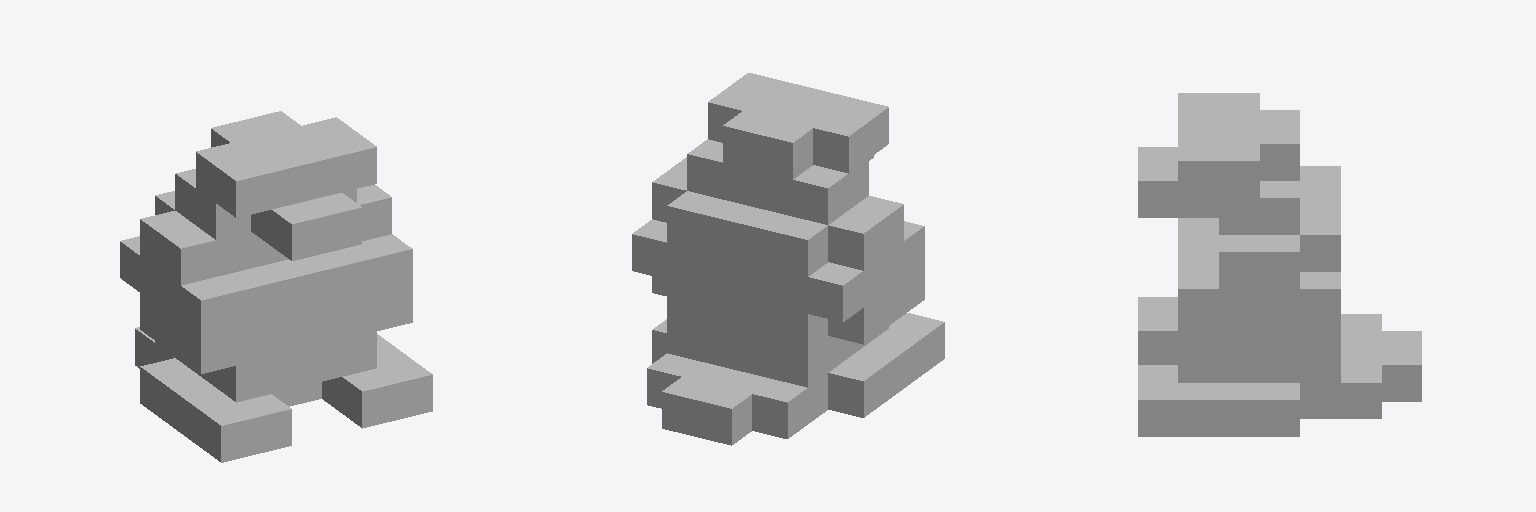
File: MoleStand.obj
3 views of the same model, side by side, from view 1: azimuth 30°, elevation 25°; view 2: azimuth 150°, elevation 25°; view 3: azimuth 270°, elevation 25° (orthographic).
Size of the model in its own units: 6 by 7 by 7.